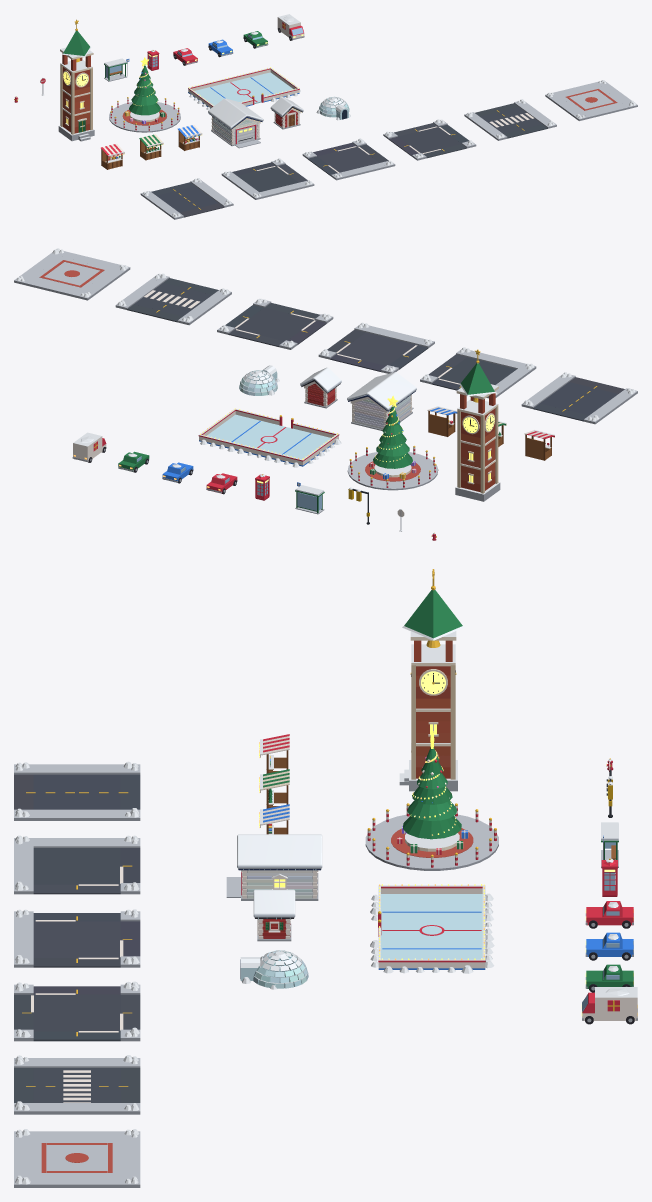
File: Sleighbound_Town.glb
3 views of the same model, one above another, from view 1: azimuth 30°, elevation 25°; view 2: azimuth 150°, elevation 25°; view 3: azimuth 270°, elevation 25° (orthographic). The views are drawn at different scales.
Visible parts, largest first — view 1: Road_Straight_Base, Road_Corner_Base, Road_T_Base, Road_Cross_Base, Plaza_Tile_Base, Road_Crosswalk_Base, IceRink_Ice, TreePlaza_Plaza, ClockTower_Tower, ClockTower_Trim, IceRink_Boards, ClockTower_Roof (+11 smaller); view 2: Road_Straight_Base, Road_T_Base, Road_Cross_Base, Plaza_Tile_Base, Road_Crosswalk_Base, IceRink_Ice, Road_Corner_Base, ClockTower_Tower, IceRink_Boards, TreePlaza_Plaza, ClockTower_Trim, ClockTower_Roof (+16 smaller); view 3: Road_Straight_Base, Road_Corner_Base, IceRink_Ice, Road_Cross_Base, Road_T_Base, Road_Crosswalk_Base, Plaza_Tile_Base, TreePlaza_Plaza, IceRink_Boards, Garage_Roof, ClockTower_Roof, TreePlaza_Tree (+12 smaller).
Part boxes in pixels (box(x1,y1,x2,y2)): Road_Straight_Base: box(140, 180, 233, 219); Road_Corner_Base: box(221, 160, 314, 199); Road_T_Base: box(302, 141, 395, 180); Road_Cross_Base: box(383, 120, 476, 160); Plaza_Tile_Base: box(545, 80, 637, 120); Road_Crosswalk_Base: box(464, 101, 556, 140); IceRink_Ice: box(194, 72, 293, 105); TreePlaza_Plaza: box(109, 102, 180, 132); ClockTower_Tower: box(58, 67, 94, 141); ClockTower_Trim: box(60, 65, 92, 141); IceRink_Boards: box(188, 68, 300, 109); ClockTower_Roof: box(60, 19, 93, 73); Road_Straight_Base: box(521, 375, 637, 424); Road_T_Base: box(318, 324, 434, 373); Road_Cross_Base: box(217, 299, 333, 349); Plaza_Tile_Base: box(14, 251, 130, 300); Road_Crosswalk_Base: box(115, 274, 231, 325); IceRink_Ice: box(207, 414, 330, 459); Road_Corner_Base: box(420, 349, 536, 398); ClockTower_Tower: box(455, 408, 500, 501); IceRink_Boards: box(198, 409, 341, 467); TreePlaza_Plaza: box(347, 452, 438, 490); ClockTower_Trim: box(457, 406, 498, 493); ClockTower_Roof: box(456, 349, 498, 416); Road_Straight_Base: box(14, 764, 140, 820); Road_Corner_Base: box(14, 838, 140, 894); IceRink_Ice: box(381, 894, 482, 959); Road_Cross_Base: box(14, 984, 140, 1041); Road_T_Base: box(14, 911, 140, 967); Road_Crosswalk_Base: box(14, 1058, 140, 1114); Plaza_Tile_Base: box(14, 1131, 140, 1187); TreePlaza_Plaza: box(365, 814, 498, 870); IceRink_Boards: box(370, 885, 494, 973); Garage_Roof: box(237, 834, 322, 870); ClockTower_Roof: box(402, 569, 464, 665); TreePlaza_Tree: box(403, 747, 461, 839).
Bounding box in the file's own units: 252 × 59.3 × 158.
